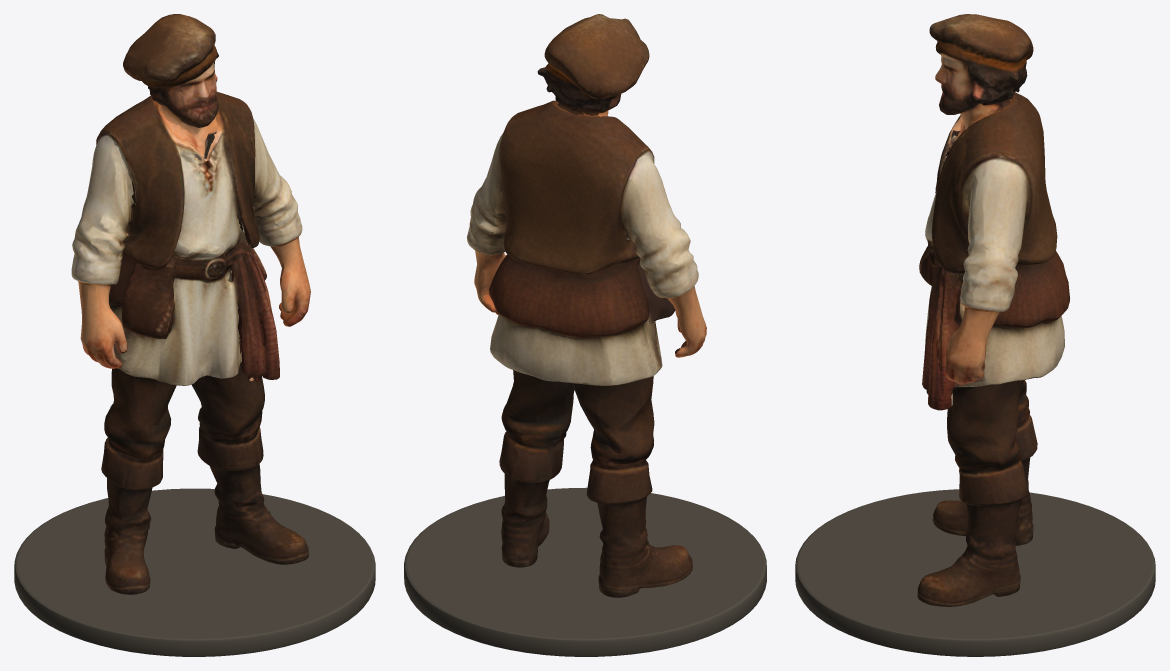
File: human-commoner.glb
3 views of the same model, side by side, from view 1: azimuth 30°, elevation 25°; view 2: azimuth 150°, elevation 25°; view 3: azimuth 270°, elevation 25° (orthographic).
Parts seen in each view (by area): view 1: human-commoner_body, human-commoner_round_base; view 2: human-commoner_body, human-commoner_round_base; view 3: human-commoner_body, human-commoner_round_base.
Part boxes in pixels (x1=…): human-commoner_body: x1=71, y1=14, x2=310, y2=594; human-commoner_round_base: x1=14, y1=488, x2=375, y2=656; human-commoner_body: x1=467, y1=14, x2=706, y2=597; human-commoner_round_base: x1=404, y1=487, x2=766, y2=656; human-commoner_body: x1=917, y1=14, x2=1069, y2=606; human-commoner_round_base: x1=795, y1=489, x2=1155, y2=656.
Size of the model in its own units: 1 by 1.71 by 1.
Materials: 2 (1 with a texture image).
